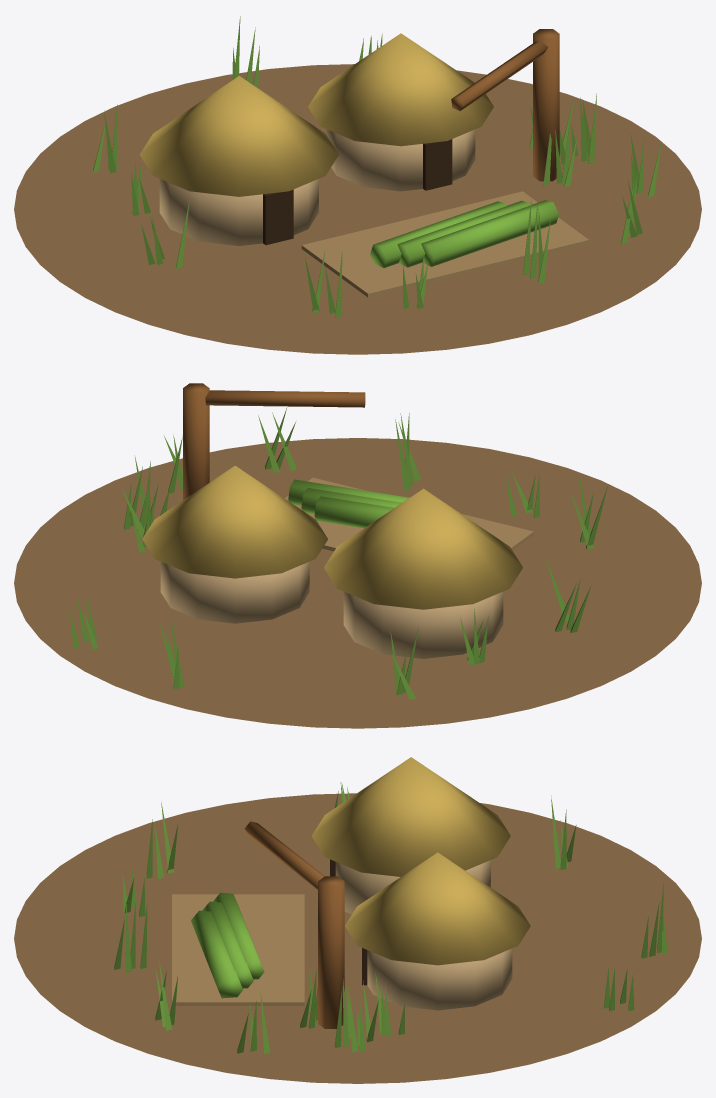
Rendered from improvement_batey.fbx.
3 views of the same model, one above another, from view 1: azimuth 30°, elevation 25°; view 2: azimuth 150°, elevation 25°; view 3: azimuth 270°, elevation 25° (orthographic).
Visible parts, largest first — view 1: improvement_batey_gpatch#8a6a44r.001_00, improvement_batey_thatch.002_03, improvement_batey_mudwall.001_02, improvement_batey_bplaza_05, improvement_batey_leaf#6a9a3a.015_01, improvement_batey_bcane_06, improvement_batey_wood#8a5a2c.013_07, improvement_batey_door.006_04; view 2: improvement_batey_gpatch#8a6a44r.001_00, improvement_batey_thatch.002_03, improvement_batey_mudwall.001_02, improvement_batey_leaf#6a9a3a.015_01, improvement_batey_wood#8a5a2c.013_07, improvement_batey_bcane_06, improvement_batey_bplaza_05; view 3: improvement_batey_gpatch#8a6a44r.001_00, improvement_batey_thatch.002_03, improvement_batey_bplaza_05, improvement_batey_leaf#6a9a3a.015_01, improvement_batey_mudwall.001_02, improvement_batey_wood#8a5a2c.013_07, improvement_batey_bcane_06.
Part boxes in pixels (x1,y1,x2,y2): improvement_batey_gpatch#8a6a44r.001_00: [14, 64, 701, 354]; improvement_batey_thatch.002_03: [139, 33, 493, 196]; improvement_batey_mudwall.001_02: [159, 129, 475, 245]; improvement_batey_bplaza_05: [301, 191, 589, 297]; improvement_batey_leaf#6a9a3a.015_01: [93, 16, 661, 317]; improvement_batey_bcane_06: [370, 200, 558, 267]; improvement_batey_wood#8a5a2c.013_07: [451, 29, 559, 181]; improvement_batey_door.006_04: [263, 139, 452, 245]; improvement_batey_gpatch#8a6a44r.001_00: [14, 438, 701, 728]; improvement_batey_thatch.002_03: [142, 465, 522, 609]; improvement_batey_mudwall.001_02: [160, 561, 503, 658]; improvement_batey_leaf#6a9a3a.015_01: [69, 407, 607, 699]; improvement_batey_wood#8a5a2c.013_07: [183, 383, 365, 500]; improvement_batey_bcane_06: [288, 479, 472, 528]; improvement_batey_bplaza_05: [284, 477, 533, 551]; improvement_batey_gpatch#8a6a44r.001_00: [14, 793, 701, 1083]; improvement_batey_thatch.002_03: [311, 757, 530, 965]; improvement_batey_bplaza_05: [172, 894, 304, 1005]; improvement_batey_leaf#6a9a3a.015_01: [114, 782, 667, 1053]; improvement_batey_mudwall.001_02: [335, 860, 512, 1010]; improvement_batey_wood#8a5a2c.013_07: [244, 821, 344, 1028]; improvement_batey_bcane_06: [191, 892, 264, 998].
Bounding box in the file's own units: 129 × 30.29 × 129.
